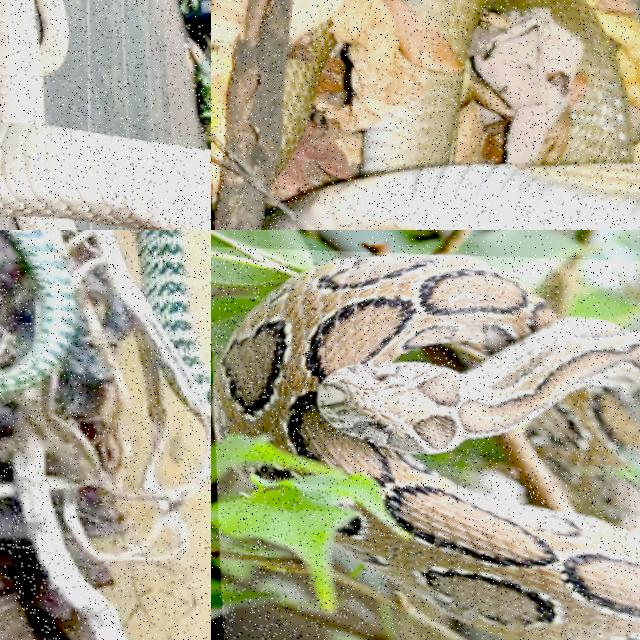Chrysopelea ornata: (0, 230, 73, 392)
Daboia siamensis: (212, 255, 639, 639)
Naja kaouthia: (0, 0, 210, 229)
Naja siamensis: (267, 0, 639, 229)
